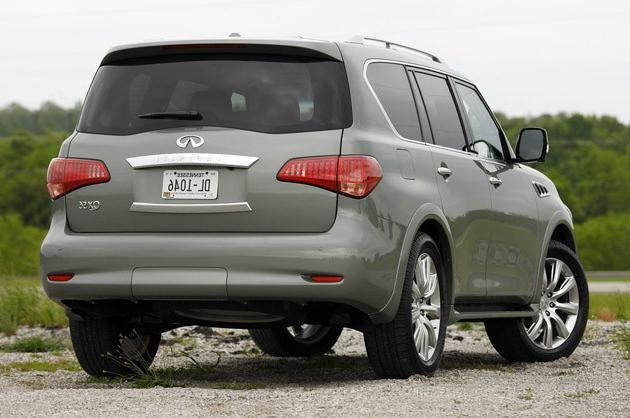Car: (31, 20, 595, 401)
